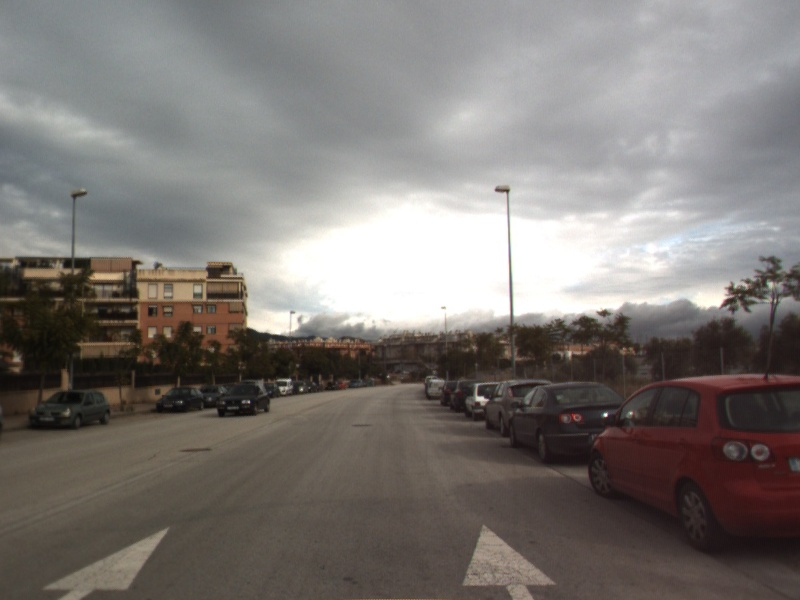STRAIGHT: (39, 524, 173, 600), (460, 522, 560, 600)
